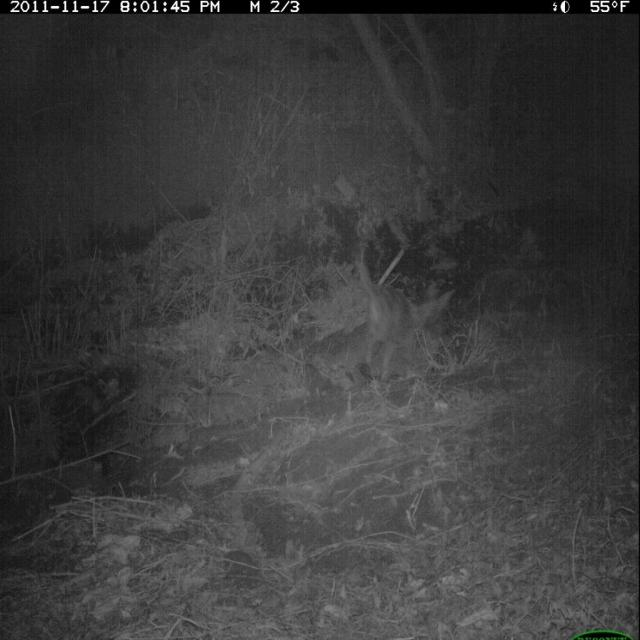coyote: (346, 246, 460, 388)
